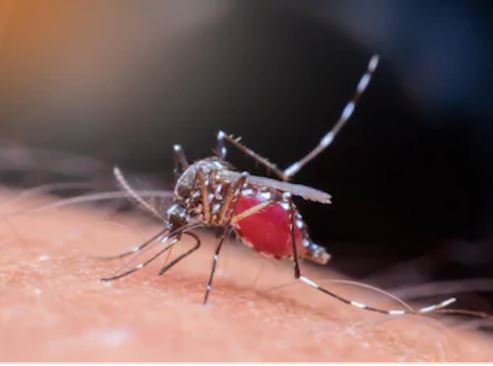dengue_mosquito: (101, 130, 387, 312)
